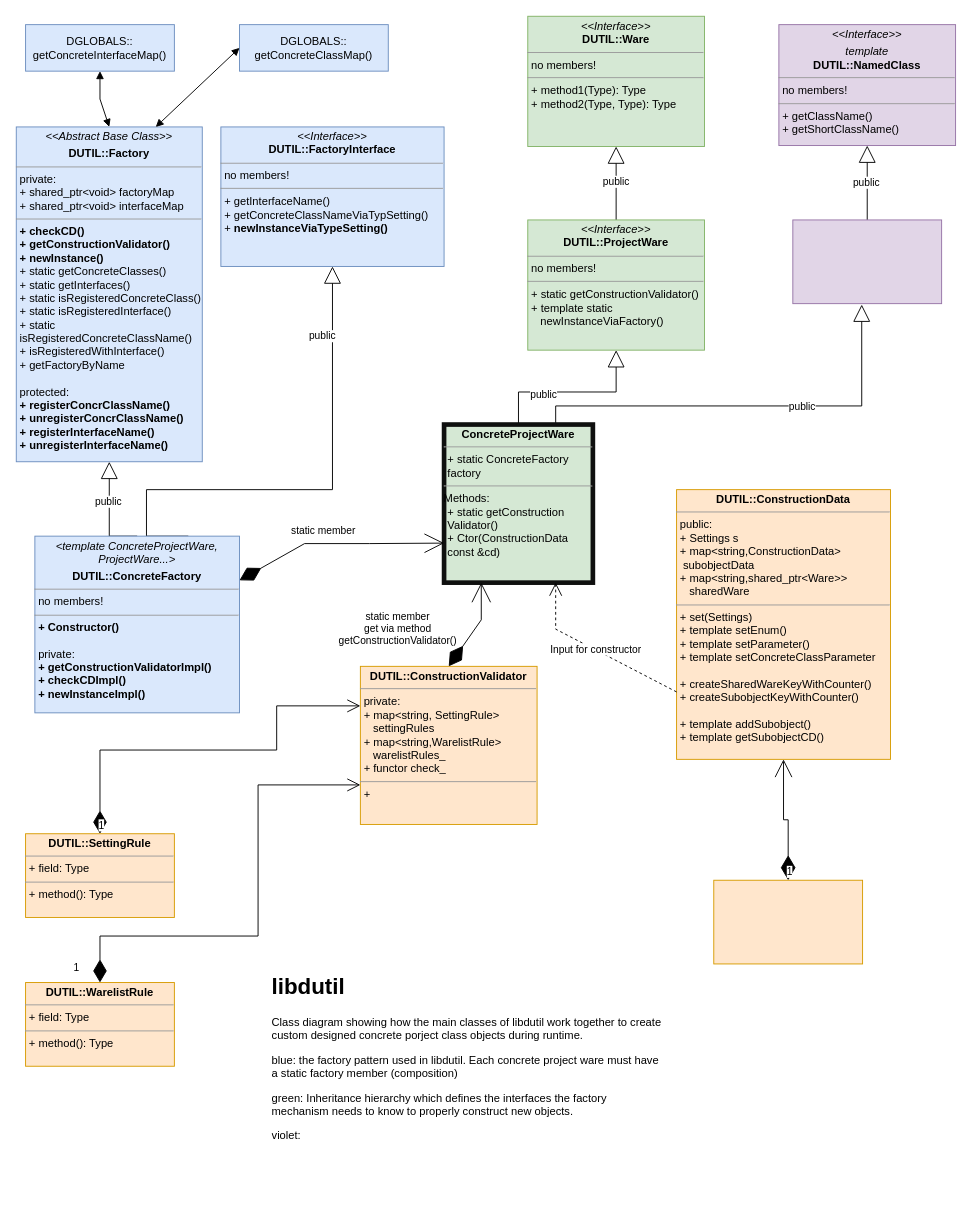
The diagram is 972 pixels wide and 1213 high, and some of its shapes have lost their labels. Here are the shapes that lost their labels. From the top down, the centre of each, then its label:
(x=867, y=261): DUTIL::NamedClassHelper no members! + getClassName() + getShortClassName()
(x=788, y=921): Settings + field: Type + method(): Type
